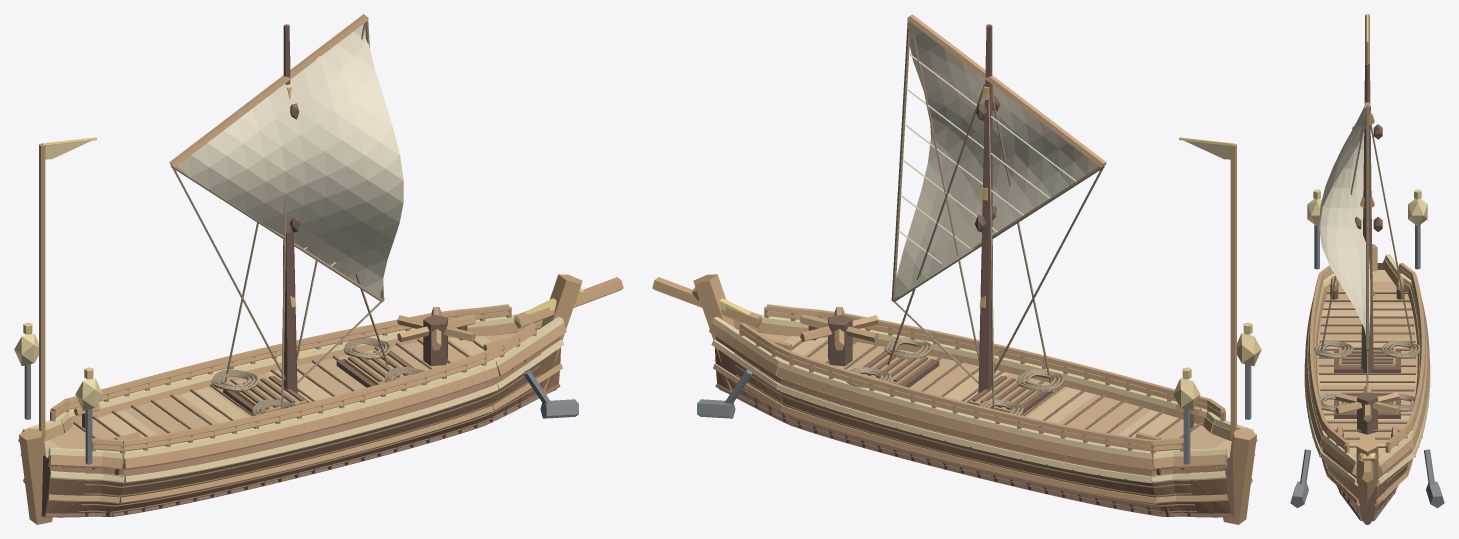
File: mtepe-v5-mobile.glb
3 renders of one model, left to right at view 1: azimuth 30°, elevation 25°; view 2: azimuth 150°, elevation 25°; view 3: azimuth 270°, elevation 25°, orthographic. The views are drawn at different scales.
Parts seen in each view (by area): view 1: mtepe_sails_sail, mtepe_hull_wood, mtepe_railings_wood, mtepe_hull_pale, mtepe_hull_seam, mtepe_hull_hull2, mtepe_hull_hull, mtepe_hull_deck, mtepe_fittings_wood, mtepe_hull_decklight, mtepe_masts_darkwood, mtepe_rigging_rope (+9 smaller); view 2: mtepe_sails_sail, mtepe_hull_wood, mtepe_railings_wood, mtepe_hull_pale, mtepe_hull_seam, mtepe_hull_hull2, mtepe_hull_hull, mtepe_hull_deck, mtepe_rigging_rope, mtepe_masts_darkwood, mtepe_fittings_wood, mtepe_hull_decklight (+11 smaller); view 3: mtepe_sails_sail, mtepe_hull_deck, mtepe_hull_wood, mtepe_hull_seam, mtepe_railings_wood, mtepe_hull_pale, mtepe_hull_decklight, mtepe_masts_darkwood, mtepe_fittings_darkwood, mtepe_fittings_wood, mtepe_fittings_iron, mtepe_fittings_rope (+9 smaller).
Part boxes in pixels (x1=…): mtepe_sails_sail: x1=176, y1=24, x2=403, y2=297; mtepe_hull_wood: x1=18, y1=274, x2=623, y2=524; mtepe_railings_wood: x1=50, y1=304, x2=536, y2=464; mtepe_hull_pale: x1=20, y1=314, x2=564, y2=483; mtepe_hull_seam: x1=44, y1=338, x2=560, y2=517; mtepe_hull_hull2: x1=45, y1=336, x2=560, y2=513; mtepe_hull_hull: x1=42, y1=347, x2=560, y2=516; mtepe_hull_deck: x1=49, y1=329, x2=538, y2=465; mtepe_fittings_wood: x1=74, y1=307, x2=506, y2=439; mtepe_hull_decklight: x1=44, y1=336, x2=491, y2=467; mtepe_masts_darkwood: x1=283, y1=24, x2=300, y2=393; mtepe_rigging_rope: x1=171, y1=17, x2=384, y2=383; mtepe_sails_sail: x1=894, y1=21, x2=1099, y2=297; mtepe_hull_wood: x1=652, y1=274, x2=1257, y2=524; mtepe_railings_wood: x1=739, y1=304, x2=1225, y2=464; mtepe_hull_pale: x1=711, y1=314, x2=1255, y2=483; mtepe_hull_seam: x1=715, y1=338, x2=1231, y2=517; mtepe_hull_hull2: x1=715, y1=336, x2=1230, y2=513; mtepe_hull_hull: x1=715, y1=347, x2=1233, y2=516; mtepe_hull_deck: x1=737, y1=329, x2=1226, y2=465; mtepe_rigging_rope: x1=891, y1=17, x2=1104, y2=383; mtepe_masts_darkwood: x1=975, y1=24, x2=999, y2=393; mtepe_fittings_wood: x1=769, y1=307, x2=1201, y2=439; mtepe_hull_decklight: x1=784, y1=336, x2=1231, y2=467; mtepe_sails_sail: x1=1319, y1=107, x2=1370, y2=335; mtepe_hull_deck: x1=1317, y1=281, x2=1417, y2=457; mtepe_hull_wood: x1=1305, y1=244, x2=1429, y2=513; mtepe_hull_seam: x1=1318, y1=292, x2=1416, y2=521; mtepe_railings_wood: x1=1309, y1=262, x2=1425, y2=452; mtepe_hull_pale: x1=1304, y1=254, x2=1430, y2=486; mtepe_hull_decklight: x1=1317, y1=270, x2=1417, y2=454; mtepe_masts_darkwood: x1=1352, y1=63, x2=1382, y2=372; mtepe_fittings_darkwood: x1=1330, y1=283, x2=1404, y2=437; mtepe_fittings_wood: x1=1331, y1=276, x2=1403, y2=437; mtepe_fittings_iron: x1=1290, y1=224, x2=1444, y2=508; mtepe_fittings_rope: x1=1314, y1=340, x2=1420, y2=411.
Bounding box in the file's own units: 41 × 28.73 × 11.15.
